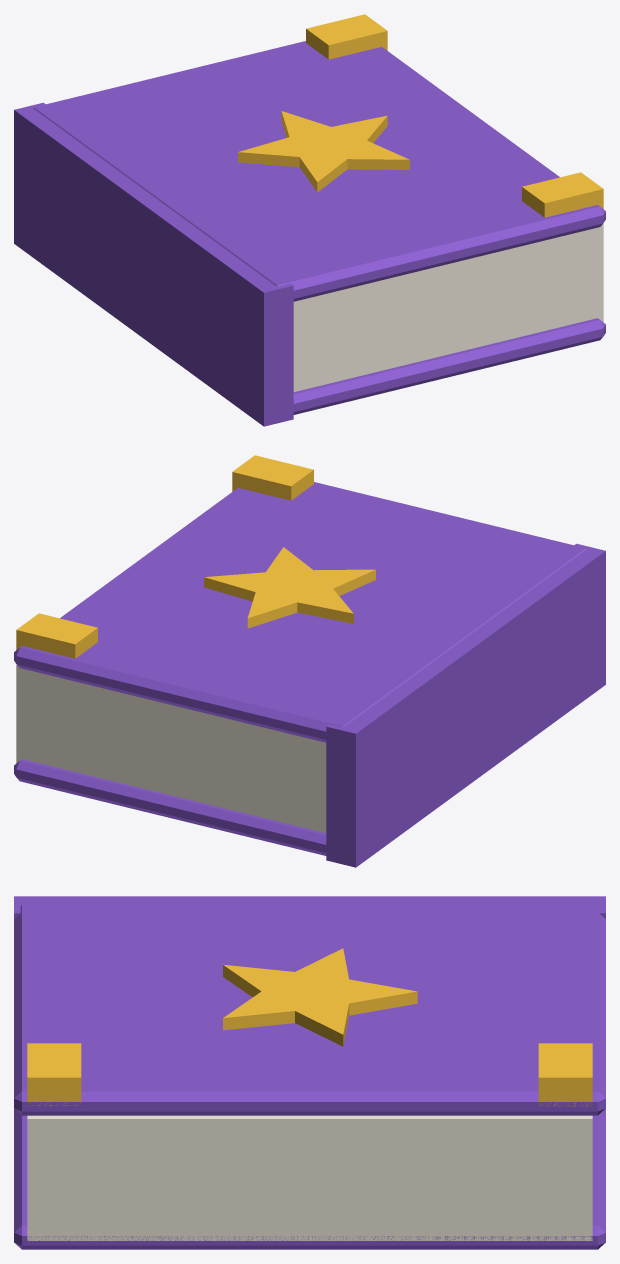
Rendered from Spellbook.fbx.
The picture shows the model from 3 angles, top to bottom: view 1: azimuth 30°, elevation 25°; view 2: azimuth 150°, elevation 25°; view 3: azimuth 270°, elevation 25°; orthographic projection. The views are drawn at different scales.
Parts seen in each view (by area): view 1: Spellbook; view 2: Spellbook; view 3: Spellbook.
Boxes of the visible parts, <box> form: Spellbook: <box>14,14,605,426</box>; Spellbook: <box>14,455,605,867</box>; Spellbook: <box>14,896,605,1249</box>.
Size of the model in its own units: 1.75 by 0.725 by 2.2.
Materials: 1 (1 with a texture image).
